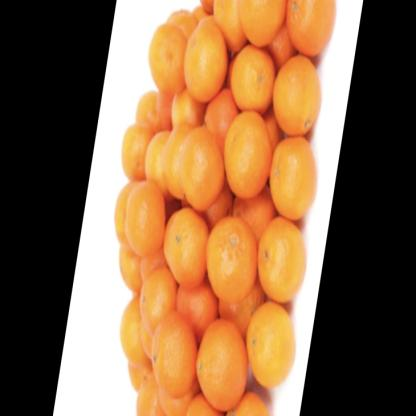fresh: (115, 1, 336, 416)
